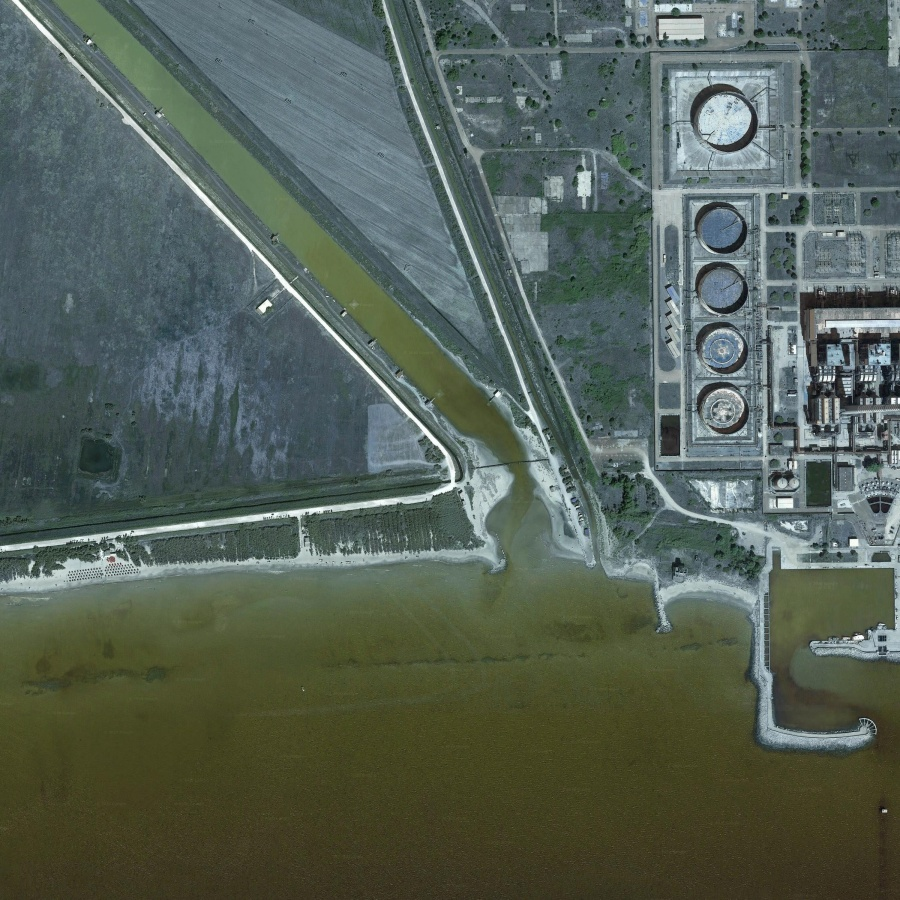PowerPlant: (647, 52, 796, 468)
